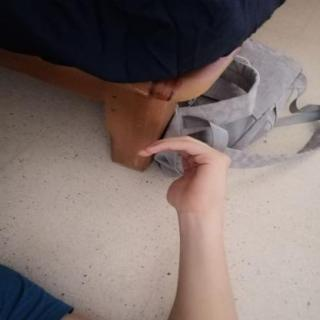HAA: (126, 127, 240, 216)
